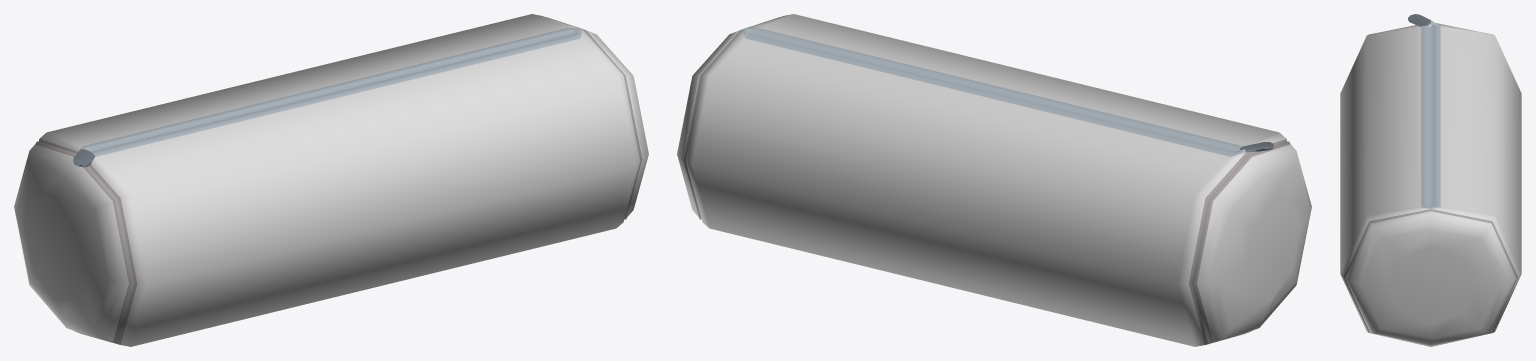
File: RundeFedertasche.fbx
3 renders of one model, left to right at view 1: azimuth 30°, elevation 25°; view 2: azimuth 150°, elevation 25°; view 3: azimuth 270°, elevation 25°, orthographic. The views are drawn at different scales.
Parts seen in each view (by area): view 1: Runde Federtasche; view 2: Runde Federtasche; view 3: Runde Federtasche.
Part boxes in pixels (x1,y1,x2,y2): Runde Federtasche: [14, 14, 648, 346]; Runde Federtasche: [677, 14, 1311, 346]; Runde Federtasche: [1340, 14, 1521, 346].
Size of the model in its own units: 21.99 by 7.16 by 8.21.
